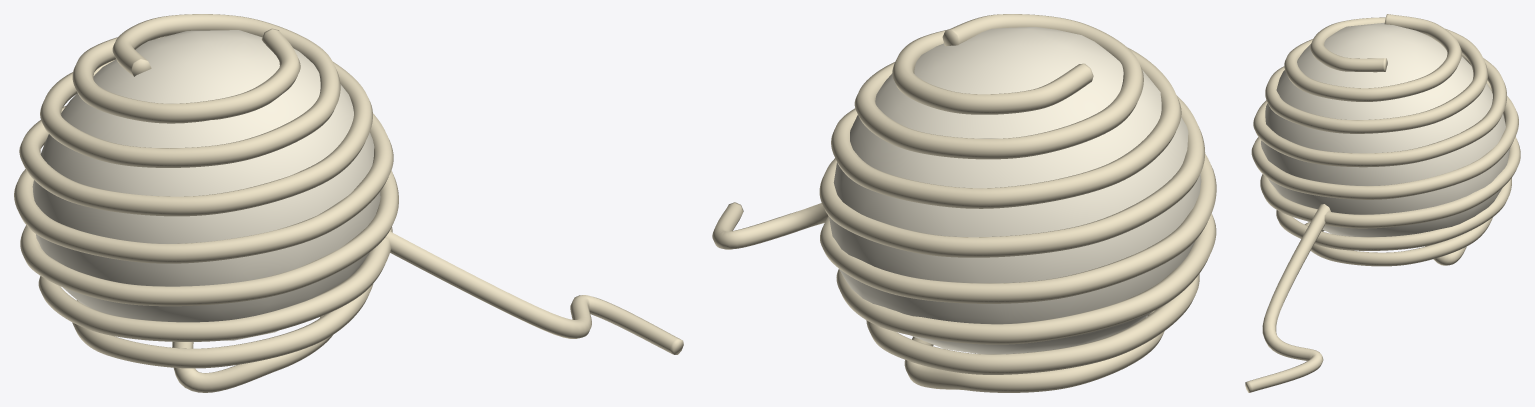
The model's file is yarn_helix2.glb.
The picture shows the model from 3 angles, left to right: view 1: azimuth 30°, elevation 25°; view 2: azimuth 150°, elevation 25°; view 3: azimuth 270°, elevation 25°; orthographic projection. The views are drawn at different scales.
Visible parts, largest first — view 1: TwineBall, HelixWrapB, HelixWrapA, LooseEnd; view 2: TwineBall, HelixWrapA, HelixWrapB, LooseEnd; view 3: TwineBall, HelixWrapB, HelixWrapA, LooseEnd.
Boxes of the visible parts, left/top/right/bottom form: TwineBall: left=32, top=30, right=380, bottom=340; HelixWrapB: left=14, top=14, right=393, bottom=392; HelixWrapA: left=19, top=28, right=398, bottom=368; LooseEnd: left=385, top=231, right=683, bottom=354; TwineBall: left=829, top=27, right=1201, bottom=354; HelixWrapA: left=819, top=14, right=1216, bottom=392; HelixWrapB: left=820, top=29, right=1216, bottom=374; LooseEnd: left=712, top=202, right=828, bottom=249; TwineBall: left=1261, top=22, right=1510, bottom=236; HelixWrapB: left=1253, top=14, right=1520, bottom=266; HelixWrapA: left=1251, top=17, right=1518, bottom=265; LooseEnd: left=1245, top=204, right=1330, bottom=392.
Bounding box in the file's own units: 0.191 × 0.1103 × 0.1194.
